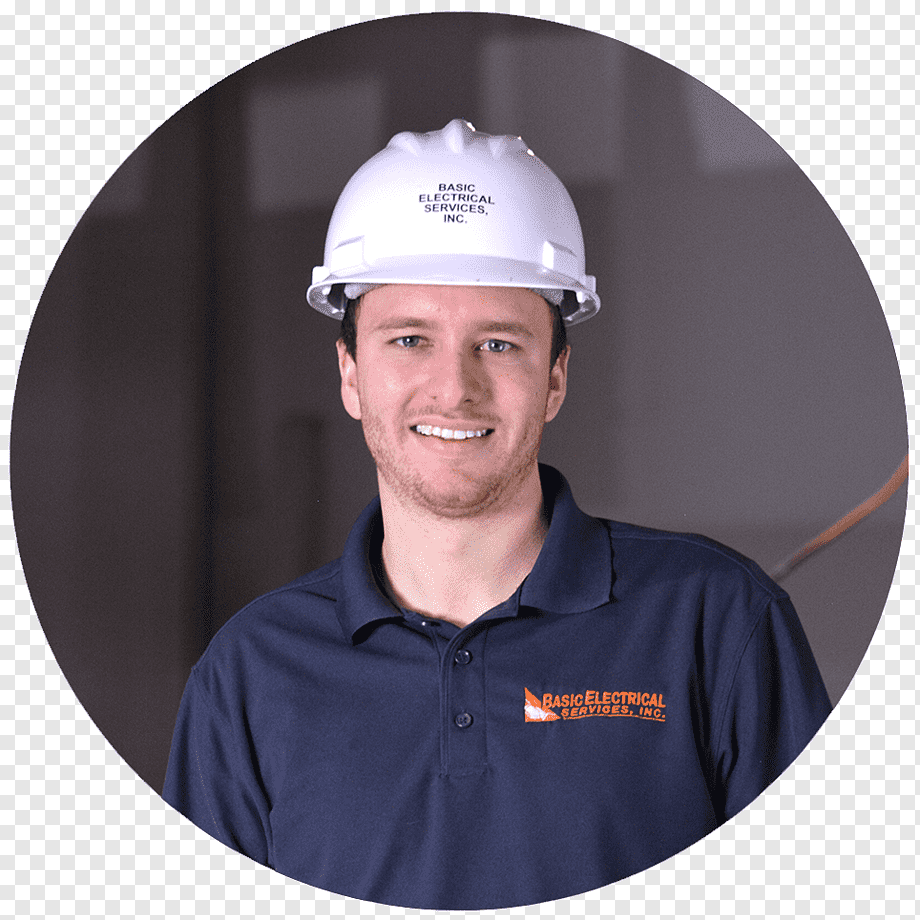Casco de seguridad: (306, 119, 600, 324)
